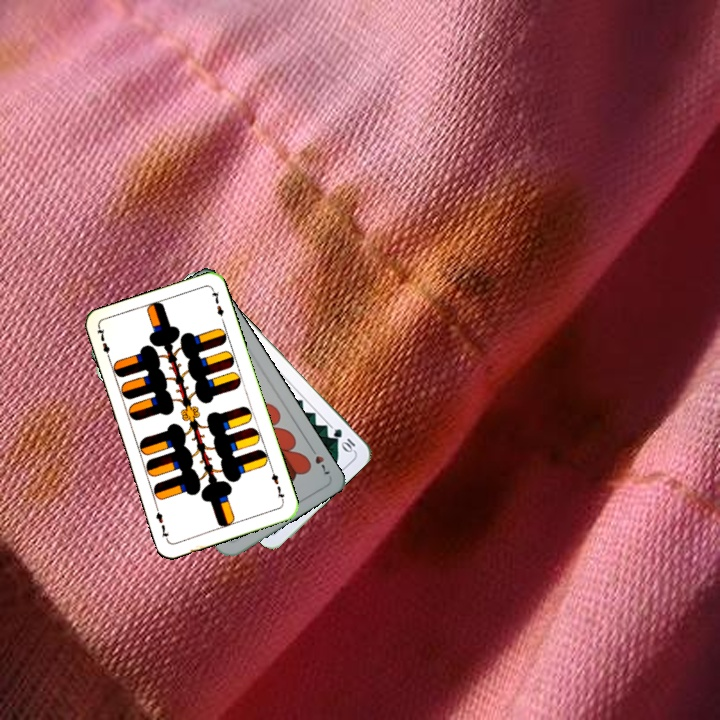E7: (267, 465, 287, 505), (93, 324, 113, 364)
G10: (329, 424, 358, 455)
H7: (305, 442, 333, 477)
